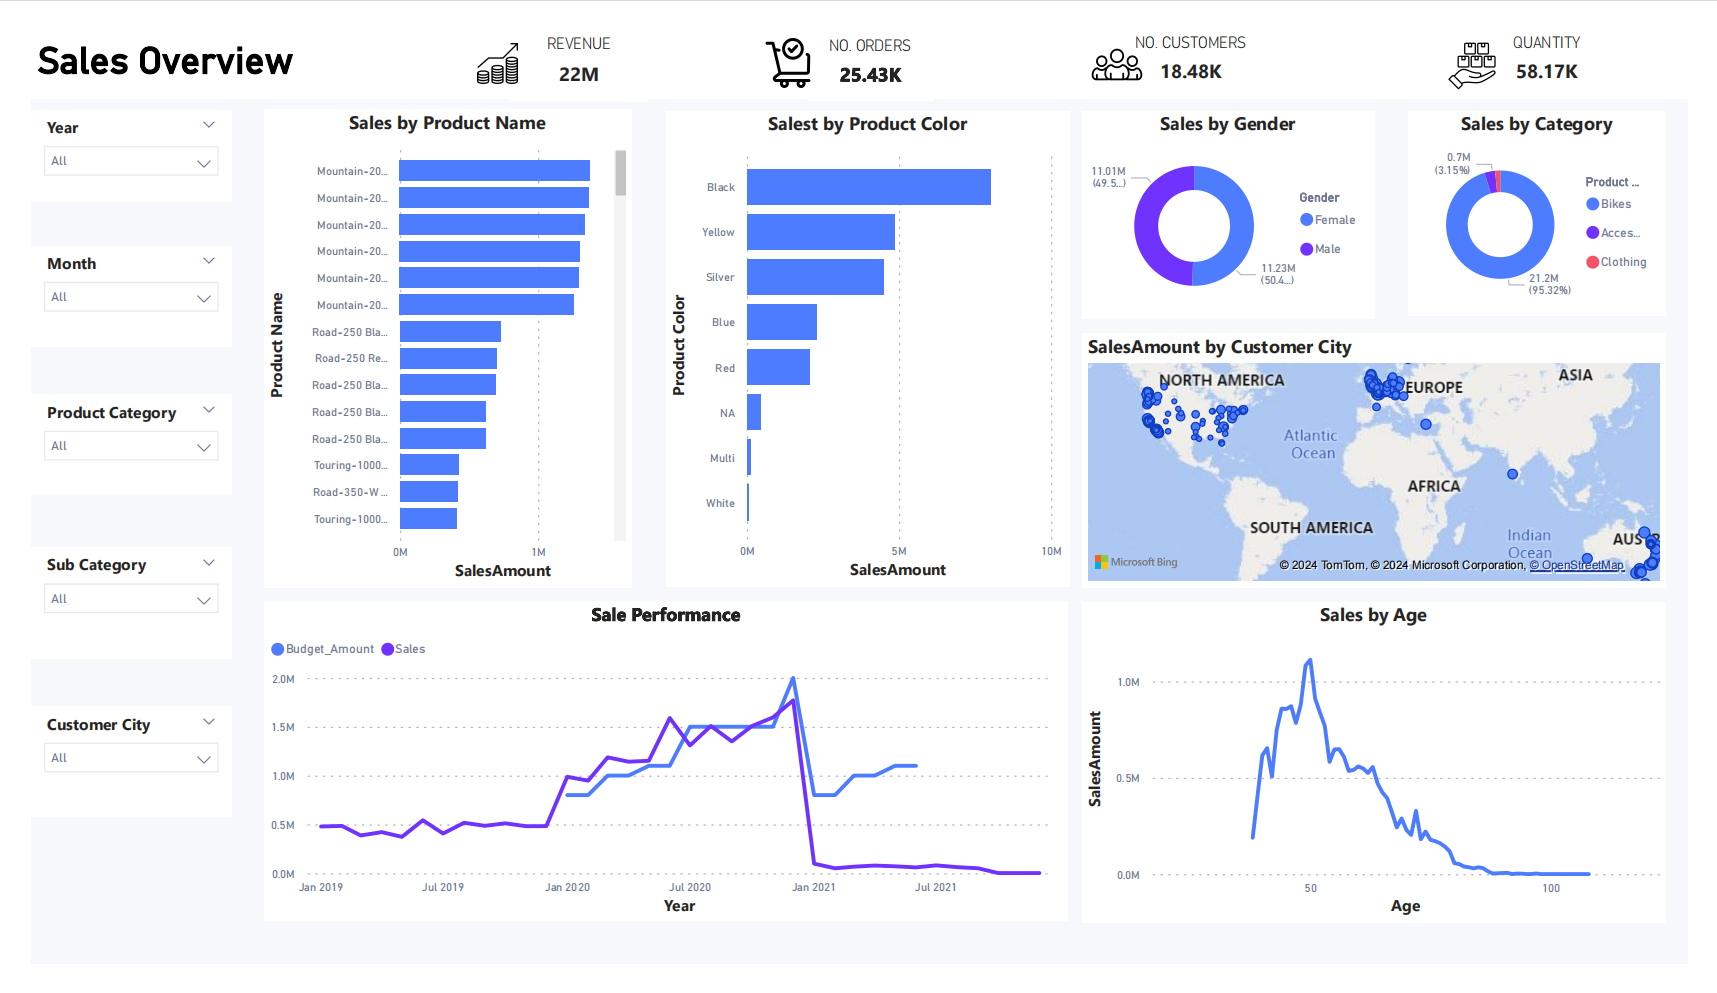

Layout of this report page (visuals, bound fields, positions):
{"tool":"powerbi","page":{"name":"SALES_OVERVIEW_DASHBOARD","canvas":[1280,720],"ordinal":1},"visuals":[{"type":"textbox","box":[0,0,1280,51.2],"z":0},{"type":"slicer","fields":{"Values":["Dim_Date_Excel.Year"]},"box":[0,60,155,71.2],"z":1000},{"type":"slicer","fields":{"Values":["Dim_Date_Excel.Month"]},"box":[0,165,155,77.5],"z":2000},{"type":"slicer","fields":{"Values":["DIM_Products.Product Category"]},"box":[0,280,155,77.5],"z":3000},{"type":"slicer","fields":{"Values":["DIM_Products.Sub Category"]},"box":[0,397.5,155,86.2],"z":4000},{"type":"card","title":"REVENUE","fields":{"Values":["Measure.Sales"]},"box":[371.4,1.4,104.3,52.9],"z":5000},{"type":"card","title":"NO. CUSTOMERS","fields":{"Values":["CountNonNull(Dim_Customer1.CustomerKey)"]},"box":[838.6,0,114.3,51.4],"z":6000},{"type":"card","title":"NO. ORDERS","fields":{"Values":["Count(FactInternetSale.SalesOrderNumber)"]},"box":[600,2.9,97.1,50],"z":7000},{"type":"card","title":"QUANTITY","fields":{"Values":["CountNonNull(FactInternetSale.SalesOrderNumber)"]},"box":[1062.9,0,217.1,51.4],"z":8000},{"type":"lineChart","title":"Sale Performance","fields":{"Y":["Measure.Budget_Amount","Measure.Sales"],"Category":["Dim_Date_Excel.Date.Variation.Date Hierarchy.Year","Dim_Date_Excel.Date.Variation.Date Hierarchy.Month"]},"box":[180,440,621.4,247.1],"z":9000},{"type":"clusteredBarChart","title":"Sales by Product Name","fields":{"Category":["DIM_Products.Product Name"],"Y":["Sum(FactInternetSale.SalesAmount)"]},"box":[180,60,284.3,368.6],"z":10000},{"type":"donutChart","title":"Sales by Category","fields":{"Y":["Sum(FactInternetSale.SalesAmount)"],"Category":["DIM_Products.Product Category"]},"box":[1063.5,60.6,199.2,158.9],"z":11000},{"type":"clusteredBarChart","title":"Salest by Product Color","fields":{"Y":["Sum(FactInternetSale.SalesAmount)"],"Category":["DIM_Products.Product Color"]},"box":[491.4,60.6,311,367.5],"z":12000},{"type":"donutChart","title":"Sales by Gender","fields":{"Y":["Sum(FactInternetSale.SalesAmount)"],"Category":["Dim_Customer1.Gender"]},"box":[811.8,60.6,226.2,160.2],"z":13000},{"type":"map","fields":{"Category":["Dim_Customer1.Customer City"],"Size":["Sum(FactInternetSale.SalesAmount)"]},"box":[811.8,232.9,451,196.6],"z":14000},{"type":"lineChart","title":"Sales by Age","fields":{"Y":["Sum(FactInternetSale.SalesAmount)"],"Category":["Dim_Customer1.Age"]},"box":[811.8,440.2,451,247.7],"z":15000},{"type":"image","box":[339.6,0,41.9,47.5],"z":16000},{"type":"image","box":[559,0,51.7,47.5],"z":17000},{"type":"image","box":[792.3,0,93.6,50.3],"z":18000},{"type":"image","box":[1081.6,2.8,62.9,46.1],"z":19000},{"type":"slicer","fields":{"Values":["Dim_Customer1.Customer City"]},"box":[0,521.2,155.1,85.2],"z":20000}]}

Visuals, with their boxes in screenshot pixels (x1, y1, x2, y2), scaled from the page's 1280x720 canvas onto the 1717x993 screenshot:
textbox: x1=0, y1=0, x2=1716, y2=71
slicer - Dim_Date_Excel.Year: x1=0, y1=83, x2=208, y2=181
slicer - Dim_Date_Excel.Month: x1=0, y1=228, x2=208, y2=334
slicer - DIM_Products.Product Category: x1=0, y1=386, x2=208, y2=493
slicer - DIM_Products.Sub Category: x1=0, y1=548, x2=208, y2=667
"REVENUE" card: x1=498, y1=2, x2=638, y2=75
"NO. CUSTOMERS" card: x1=1125, y1=0, x2=1278, y2=71
"NO. ORDERS" card: x1=805, y1=4, x2=935, y2=73
"QUANTITY" card: x1=1426, y1=0, x2=1716, y2=71
"Sale Performance" lineChart: x1=241, y1=607, x2=1075, y2=948
"Sales by Product Name" clusteredBarChart: x1=241, y1=83, x2=623, y2=591
"Sales by Category" donutChart: x1=1427, y1=84, x2=1694, y2=303
"Salest by Product Color" clusteredBarChart: x1=659, y1=84, x2=1076, y2=590
"Sales by Gender" donutChart: x1=1089, y1=84, x2=1392, y2=305
map - Dim_Customer1.Customer City x Sum(FactInternetSale.SalesAmount): x1=1089, y1=321, x2=1694, y2=592
"Sales by Age" lineChart: x1=1089, y1=607, x2=1694, y2=949
image: x1=456, y1=0, x2=512, y2=66
image: x1=750, y1=0, x2=819, y2=66
image: x1=1063, y1=0, x2=1188, y2=69
image: x1=1451, y1=4, x2=1535, y2=67
slicer - Dim_Customer1.Customer City: x1=0, y1=719, x2=208, y2=836
